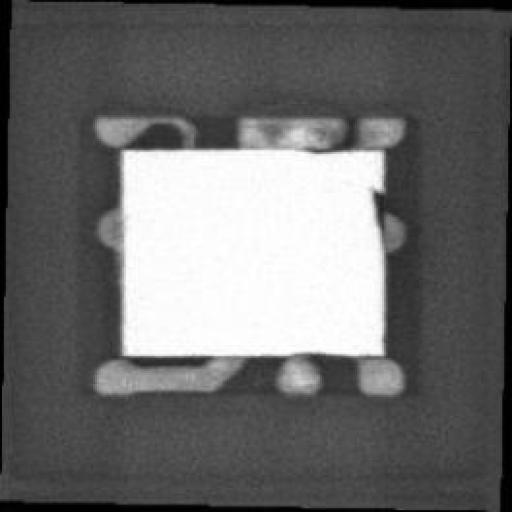DIE_BROKEN: (368, 182, 386, 230)
